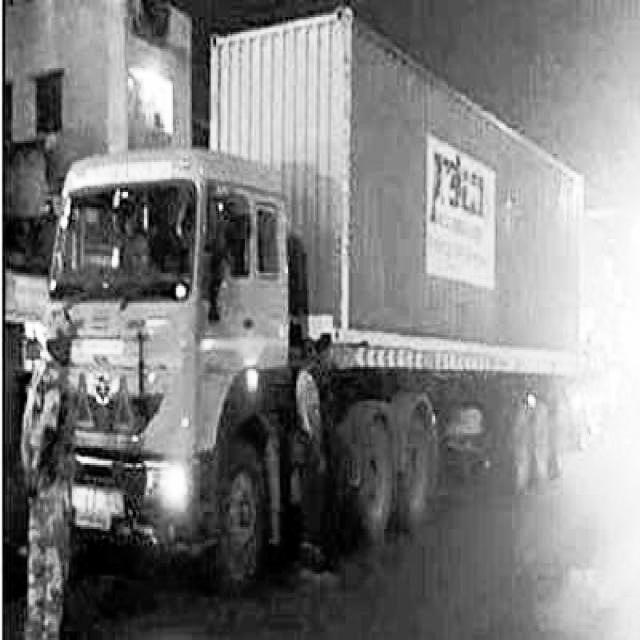HCV: (24, 5, 604, 597)
